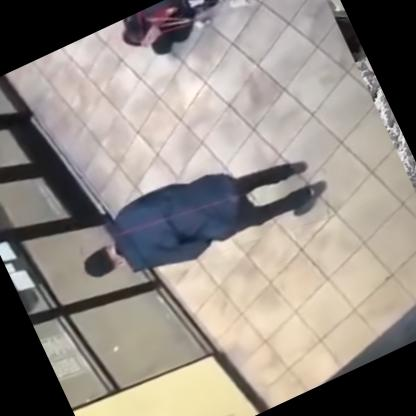Human Body: (62, 119, 340, 318), (110, 0, 245, 75)
